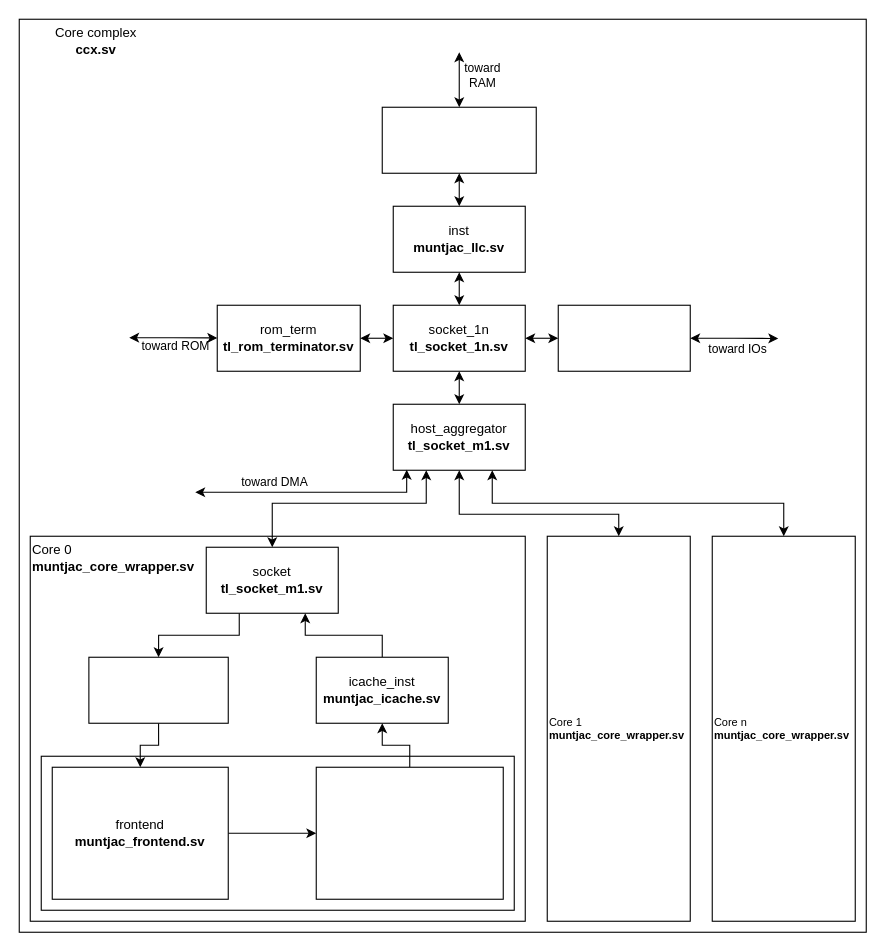
Image size: 886x952. Some labels were removed from this diagram. Each missing label, with the box of its shape:
backend muntjac_backend.sv: (315, 766, 503, 899)
dcache_inst muntjac_dcache.sv: (88, 656, 228, 723)
io_term tl_io_terminator.sv: (557, 304, 690, 371)
mem_term tl_ram_terminator.sv: (381, 106, 536, 173)
